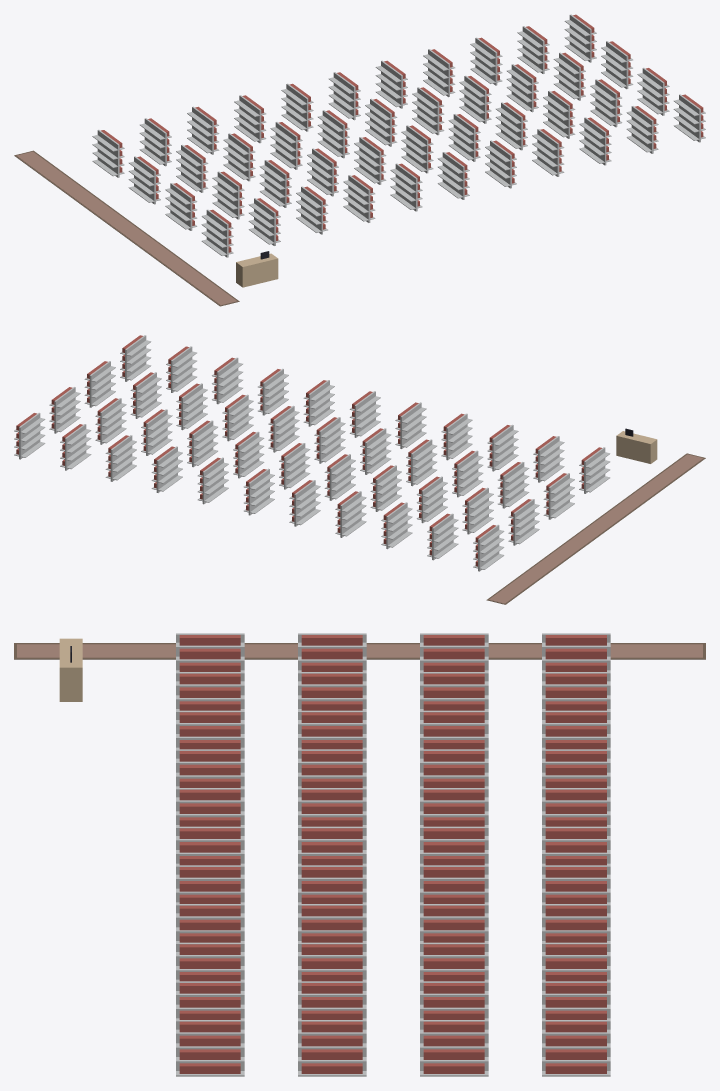
The model's file is fine-s0.glb.
3 views of the same model, one above another, from view 1: azimuth 30°, elevation 25°; view 2: azimuth 150°, elevation 25°; view 3: azimuth 270°, elevation 25° (orthographic). The views are drawn at different scales.
Parts seen in each view (by area): view 1: soft-s0, shop-counter.000, shelf.003, shelf.020, shelf.039, shelf.040, shelf.010, shelf.013, shelf.017, shelf.026, shelf.036, shelf.000 (+34 smaller); view 2: soft-s0, shop-counter.000, shelf.008, shelf.004, shelf.040, shelf.000, shelf.015, shelf.041, shelf.010, shelf.033, shelf.021, shelf.025 (+34 smaller); view 3: soft-s0, shelf.040, shelf.041, shelf.042, shelf.043, shelf.008, shelf.009, shelf.010, shelf.011, shelf.020, shelf.021, shelf.022 (+34 smaller).
Boxes of the visible parts, x1,y1,x2,y2 form: soft-s0: [14, 150, 239, 306]; shop-counter.000: [236, 251, 278, 287]; shelf.003: [201, 209, 233, 257]; shelf.020: [328, 72, 360, 120]; shelf.039: [626, 106, 658, 153]; shelf.040: [564, 14, 596, 62]; shelf.010: [259, 160, 291, 207]; shelf.013: [270, 122, 302, 169]; shelf.017: [317, 110, 349, 158]; shelf.026: [448, 114, 480, 161]; shelf.036: [517, 26, 549, 73]; shelf.000: [92, 129, 124, 177]; soft-s0: [486, 453, 705, 604]; shop-counter.000: [616, 428, 657, 463]; shelf.008: [381, 502, 412, 549]; shelf.004: [427, 513, 458, 560]; shelf.040: [14, 412, 45, 459]; shelf.000: [473, 524, 504, 571]; shelf.015: [441, 413, 472, 460]; shelf.041: [49, 387, 80, 433]; shelf.010: [452, 450, 483, 497]; shelf.033: [141, 409, 172, 455]; shelf.021: [279, 443, 310, 489]; shelf.025: [233, 431, 264, 478]; soft-s0: [14, 643, 705, 659]; shelf.040: [542, 1020, 610, 1076]; shelf.041: [420, 1020, 488, 1076]; shelf.042: [298, 1020, 366, 1076]; shelf.043: [176, 1020, 244, 1076]; shelf.008: [542, 710, 610, 749]; shelf.009: [420, 710, 488, 749]; shelf.010: [298, 710, 366, 749]; shelf.011: [176, 710, 244, 749]; shelf.020: [542, 826, 610, 865]; shelf.021: [420, 826, 488, 865]; shelf.022: [298, 826, 366, 865].
Bounding box in the file's own units: 27.15 × 1.6 × 18.15.
